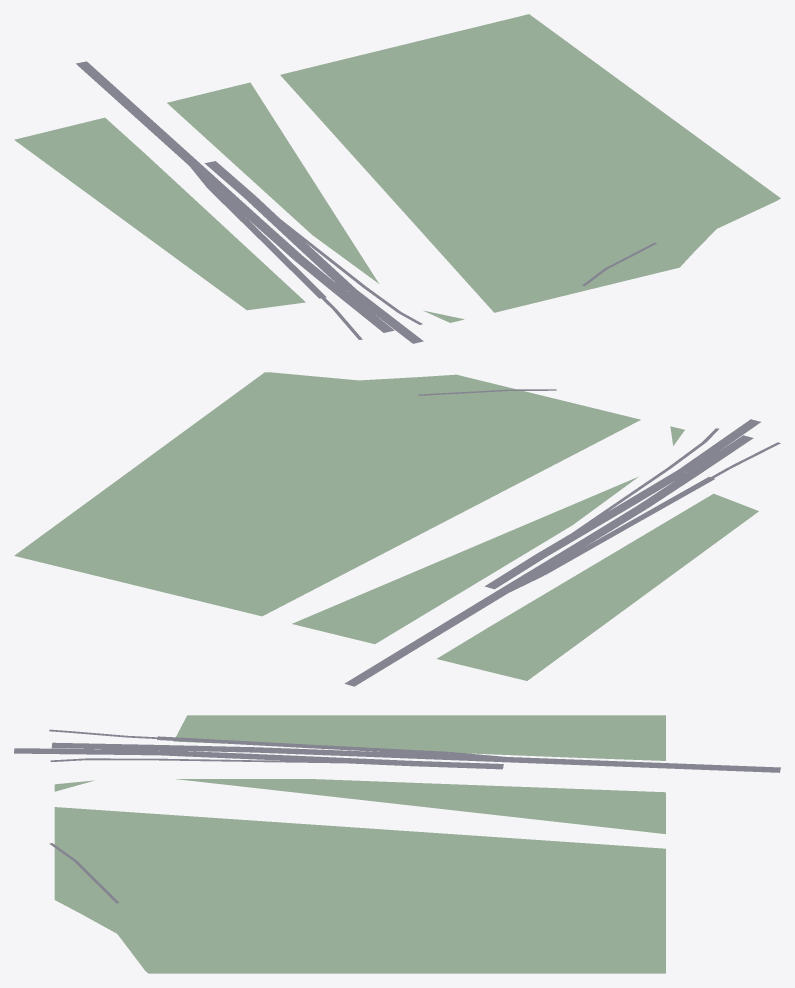
File: 94_107_mid.glb
3 views of the same model, one above another, from view 1: azimuth 30°, elevation 25°; view 2: azimuth 150°, elevation 25°; view 3: azimuth 270°, elevation 25° (orthographic). The views are drawn at different scales.
Bounding box in the file's own units: 500 × 7.87 × 627.
